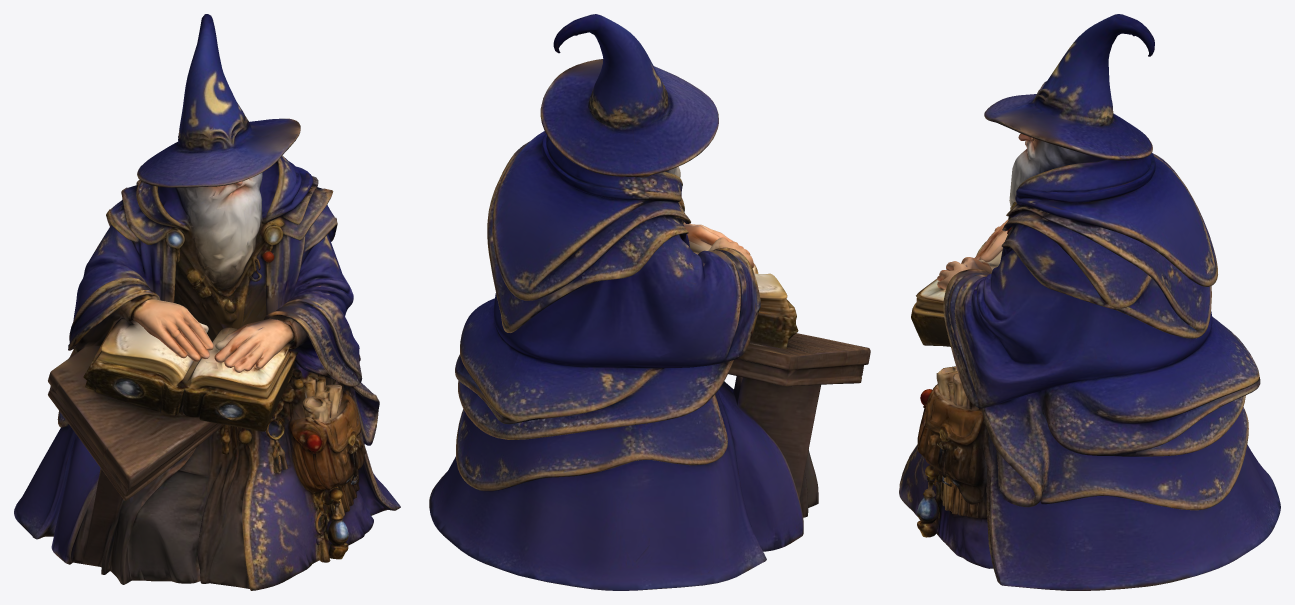
File: librarian.glb
The picture shows the model from 3 angles, left to right: view 1: azimuth 30°, elevation 25°; view 2: azimuth 150°, elevation 25°; view 3: azimuth 270°, elevation 25°; orthographic projection. The views are drawn at different scales.
Parts seen in each view (by area): view 1: node_0; view 2: node_0; view 3: node_0.
Boxes of the visible parts, bbox=[...] form: node_0: bbox=[14, 14, 400, 590]; node_0: bbox=[429, 14, 870, 590]; node_0: bbox=[899, 14, 1280, 590].
Size of the model in its own units: 0.6791 by 0.9669 by 0.668.
1 material, 1 textured.
